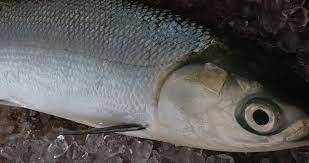Bangus: (0, 0, 309, 157)
